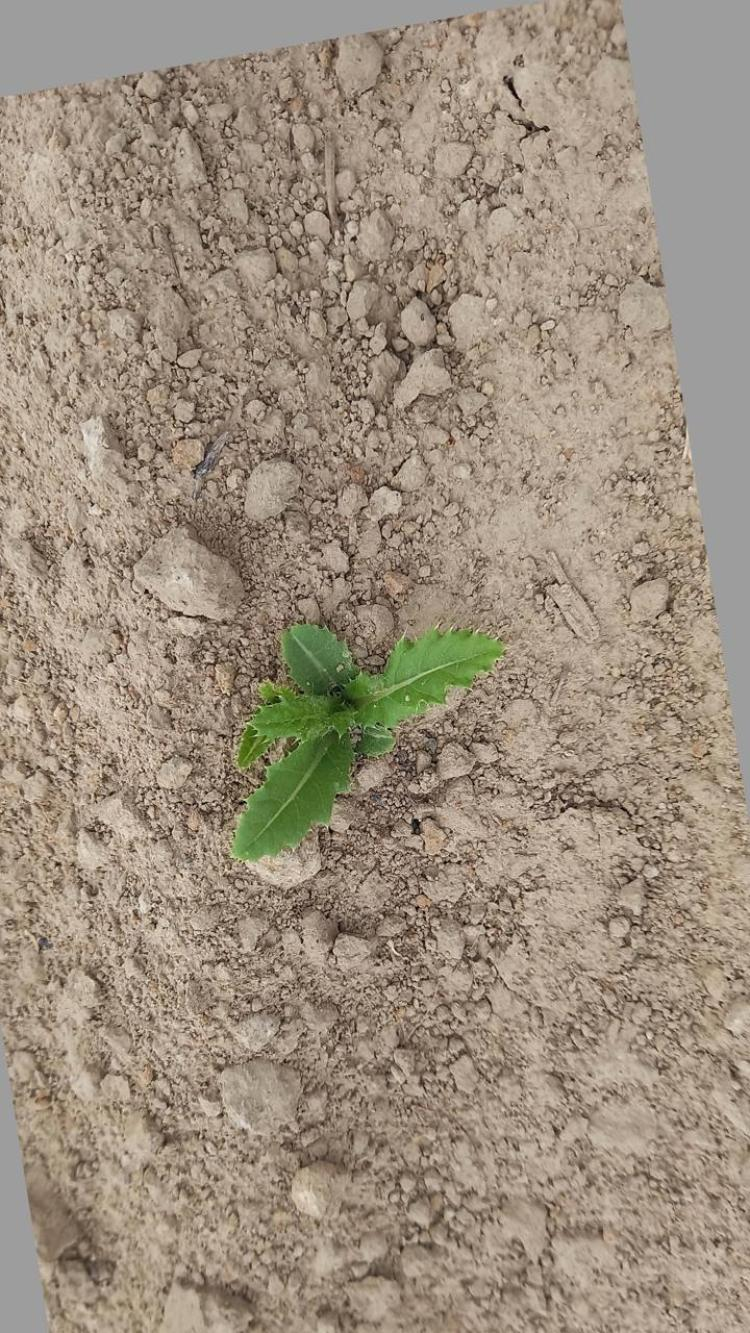bodyak: (221, 612, 510, 871)
